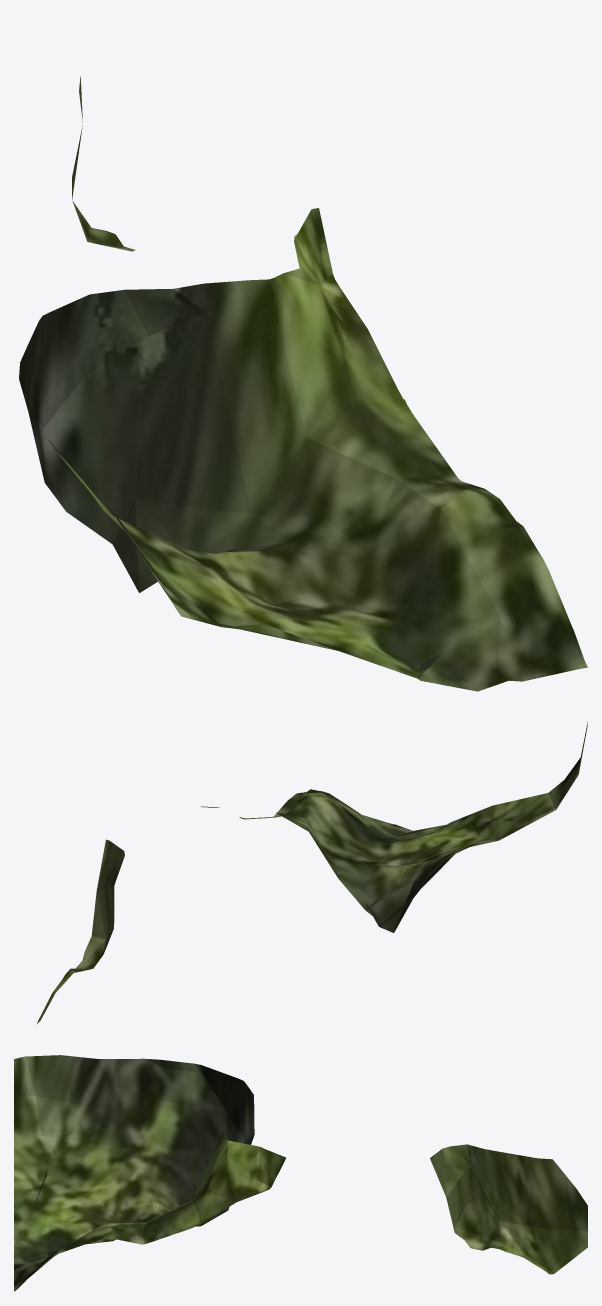
3 views of the same model, one above another, from view 1: azimuth 30°, elevation 25°; view 2: azimuth 150°, elevation 25°; view 3: azimuth 270°, elevation 25° (orthographic). The views are drawn at different scales.
Bounding box in the file's own units: 1.27 × 0.7521 × 2.95.
Materials: 1 (1 with a texture image).
